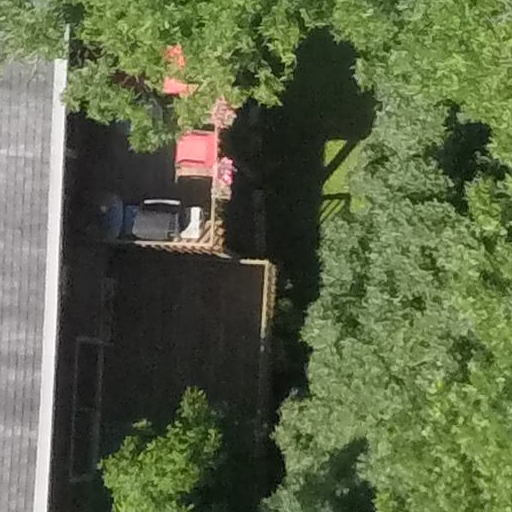barbecue: (125, 197, 214, 241)
porch: (37, 1, 269, 509)
